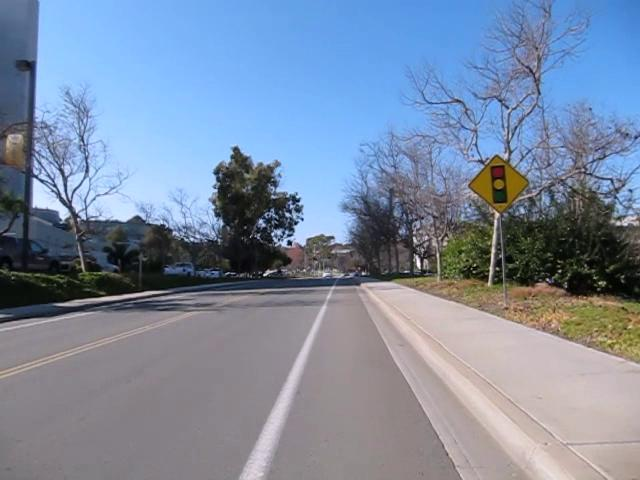signalAhead: (467, 153, 529, 215)
